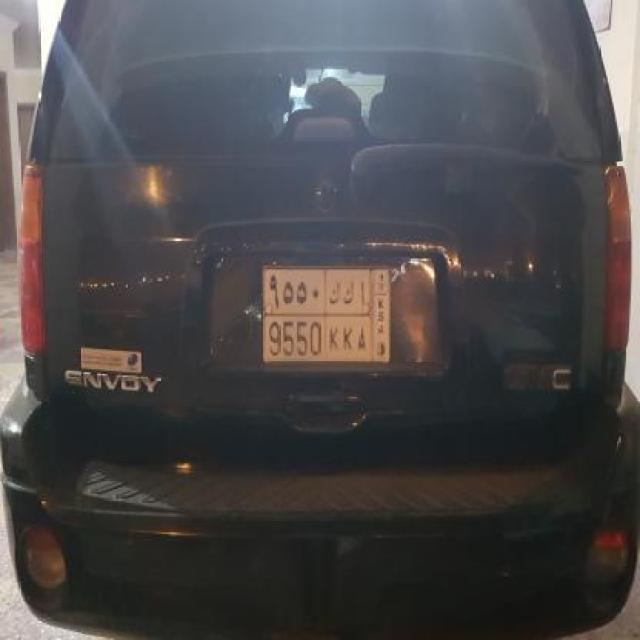license_plate: (260, 262, 392, 368)
